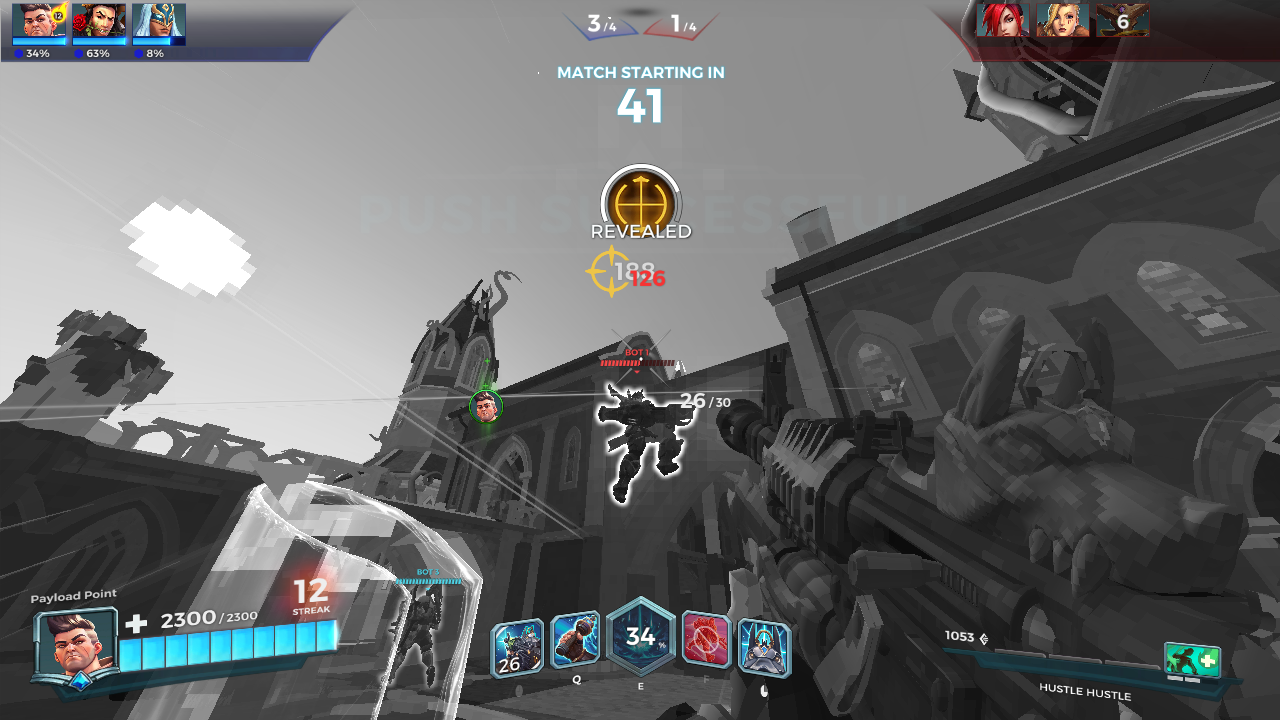model: (598, 378, 701, 500)
